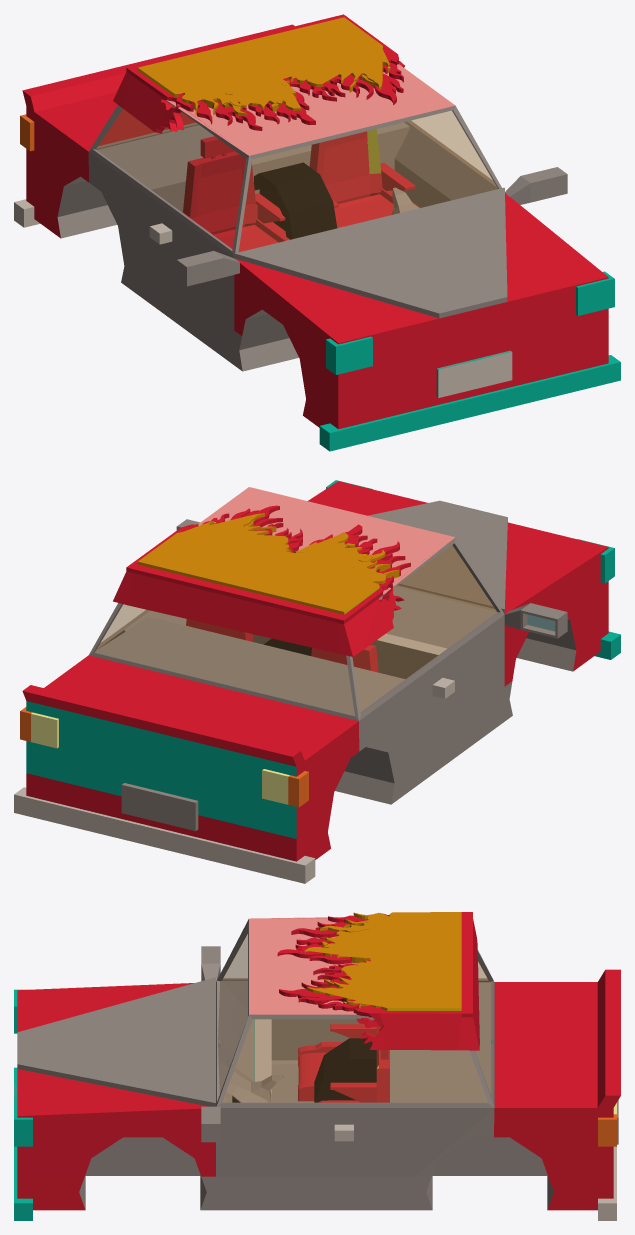
File: CarNb3.fbx
3 views of the same model, one above another, from view 1: azimuth 30°, elevation 25°; view 2: azimuth 150°, elevation 25°; view 3: azimuth 270°, elevation 25° (orthographic). The views are drawn at different scales.
Visible parts, largest first — view 1: 3 Body, 3 Wheels R, 3 Wheels L; view 2: 3 Body; view 3: 3 Body, 3 Wheels R, 3 Wheels L.
Boxes of the visible parts, box(x1,y1,x2,y2) form: 3 Body: box(14, 14, 620, 451); 3 Wheels R: box(254, 164, 329, 239); 3 Wheels L: box(259, 162, 337, 231); 3 Body: box(14, 480, 620, 883); 3 Body: box(14, 912, 620, 1220); 3 Wheels R: box(314, 1038, 376, 1100); 3 Wheels L: box(314, 1041, 376, 1102).
Bounding box in the file's own units: 184 × 93.46 × 266.
